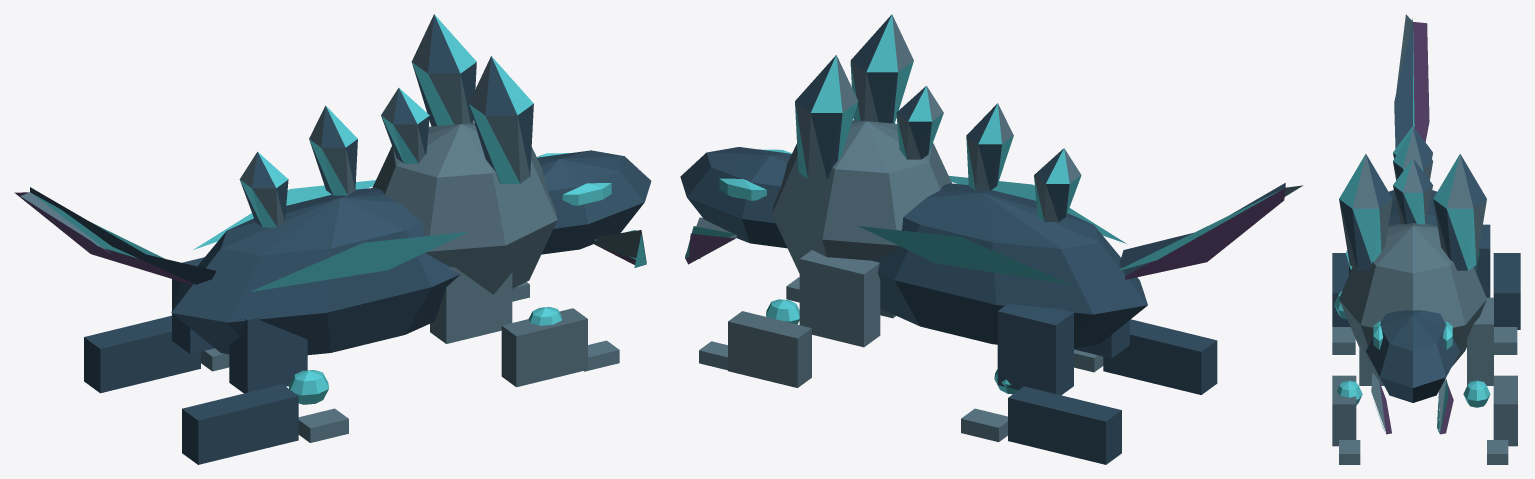
The model's file is enemy-inkHound.glb.
The picture shows the model from 3 angles, left to right: view 1: azimuth 30°, elevation 25°; view 2: azimuth 150°, elevation 25°; view 3: azimuth 270°, elevation 25°; orthographic projection. The views are drawn at different scales.
Visible parts, largest first — view 1: Ink hound, split ears and cyan veins; view 2: Ink hound, split ears and cyan veins; view 3: Ink hound, split ears and cyan veins.
Part boxes in pixels (<box>): Ink hound, split ears and cyan veins: <box>14,14,651,464</box>; Ink hound, split ears and cyan veins: <box>680,14,1303,464</box>; Ink hound, split ears and cyan veins: <box>1332,14,1520,464</box>.
Size of the model in its own units: 0.9 by 0.4375 by 0.28.
